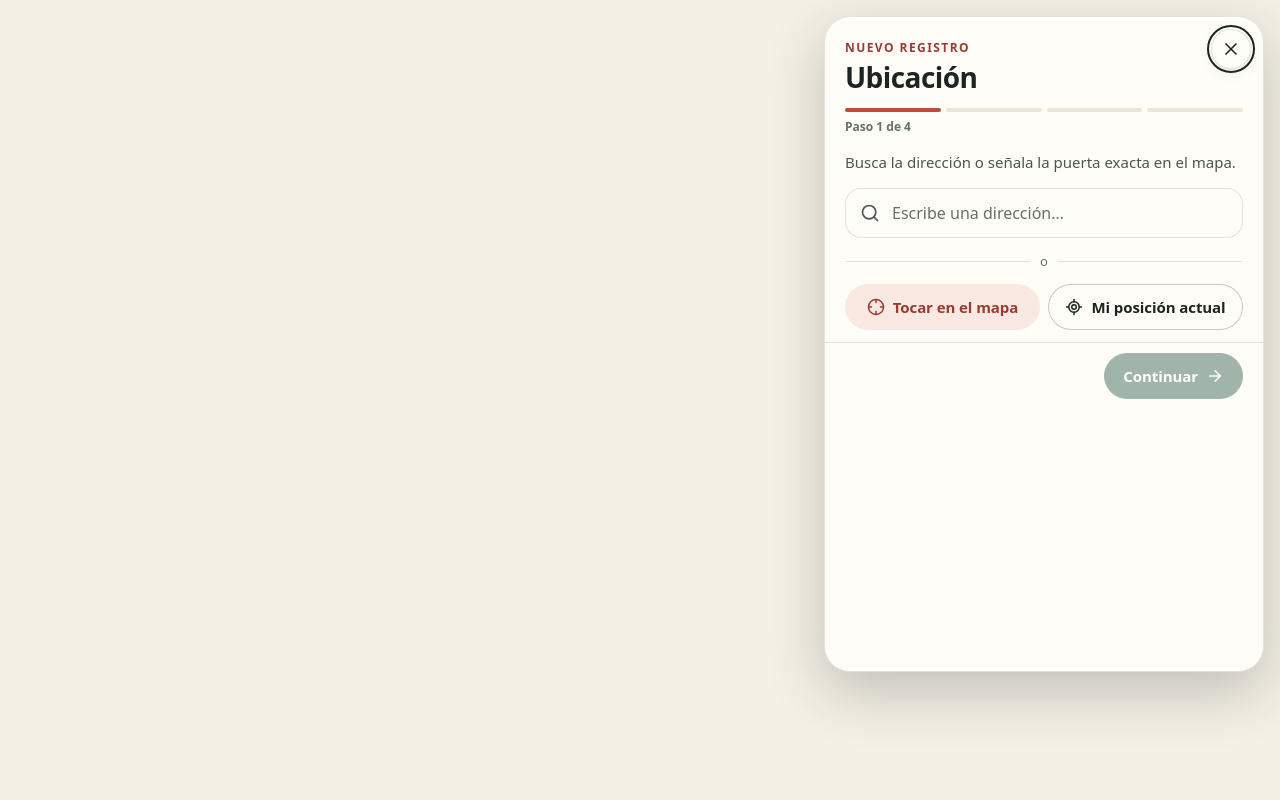
RegisterWizard mobile flow › offers the current GPS position instead of the map center on touch devices
Click the button "Mi posición actual" at (1146,308), box top-left (1048, 284), bottom-right (1243, 330)
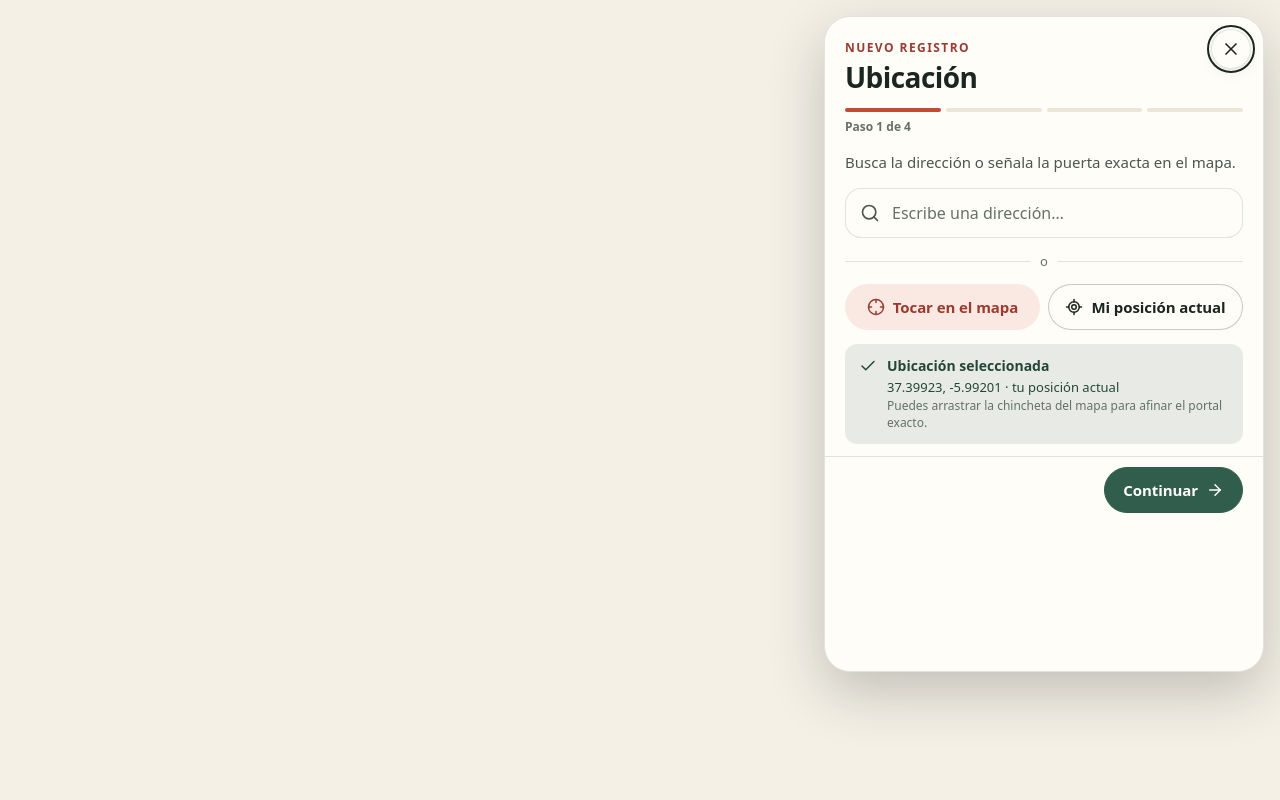
Check: the text "tu posición actual" is shown, box top-left (887, 378), bottom-right (1119, 396)
Check: the button "Continuar" is enabled, box top-left (1104, 467), bottom-right (1243, 513)
